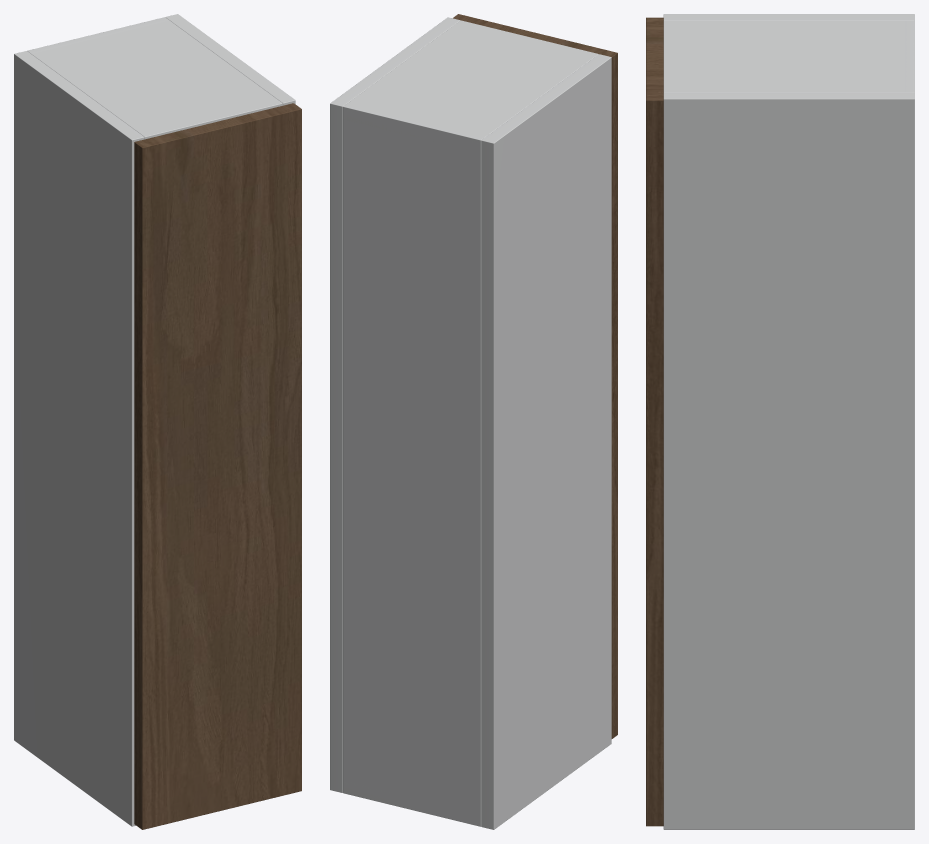
Rendered from oppein-pb-mso-w0936.glb.
3 renders of one model, left to right at view 1: azimuth 30°, elevation 25°; view 2: azimuth 150°, elevation 25°; view 3: azimuth 270°, elevation 25°, orthographic. The views are drawn at different scales.
Visible parts, largest first — view 1: Door, Cabinet side, Cabinet top, Cabinet side.001, Cabinet back; view 2: Cabinet back, Cabinet side, Cabinet top, Cabinet side.001, Door; view 3: Cabinet side.001, Cabinet top, Door, Cabinet side, Cabinet back.
Boxes of the visible parts, x1,y1,x2,y2 form: Door: [134, 103, 301, 829]; Cabinet side: [14, 51, 144, 826]; Cabinet top: [28, 20, 282, 139]; Cabinet side.001: [165, 14, 295, 105]; Cabinet back: [27, 17, 168, 53]; Cabinet back: [343, 103, 485, 826]; Cabinet side: [481, 54, 611, 829]; Cabinet top: [343, 20, 598, 151]; Cabinet side.001: [330, 17, 460, 792]; Door: [453, 14, 617, 738]; Cabinet side.001: [663, 92, 914, 829]; Cabinet top: [663, 20, 914, 92]; Door: [646, 17, 663, 826]; Cabinet side: [663, 14, 914, 20]; Cabinet back: [905, 20, 914, 92].
Size of the model in its own units: 0.2286 by 0.9144 by 0.3048.
Materials: 2 (1 with a texture image).
